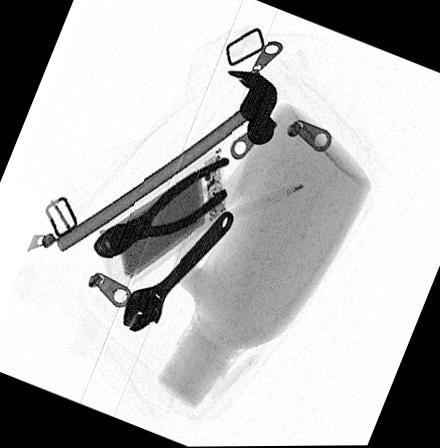Hammer: (57, 70, 279, 249)
Pliers: (94, 155, 231, 260)
Powerbank: (97, 143, 230, 297)
Wrench: (123, 211, 234, 334)
